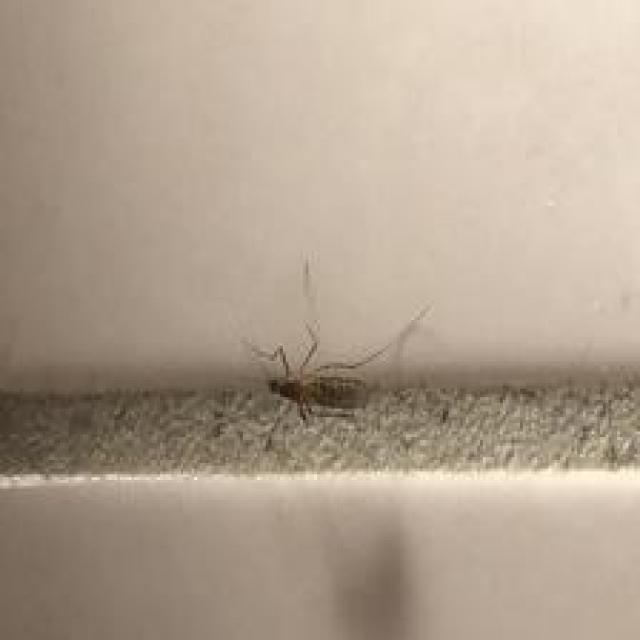Culex: (241, 257, 433, 452)
